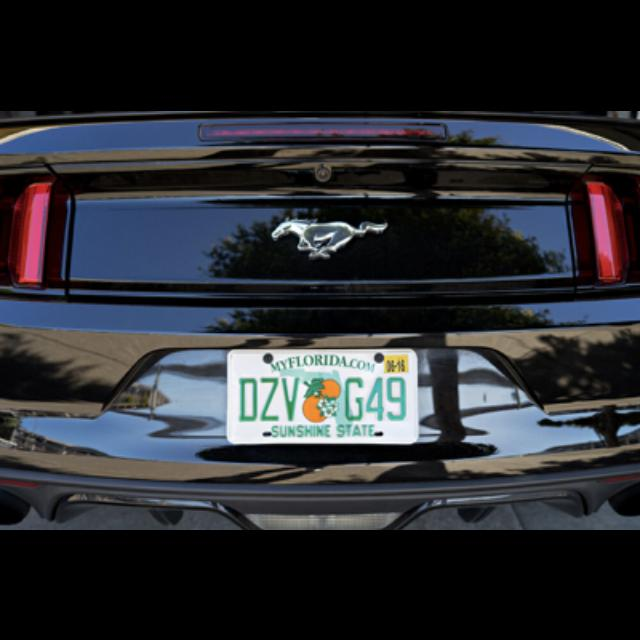carPlate: (228, 350, 418, 442)
